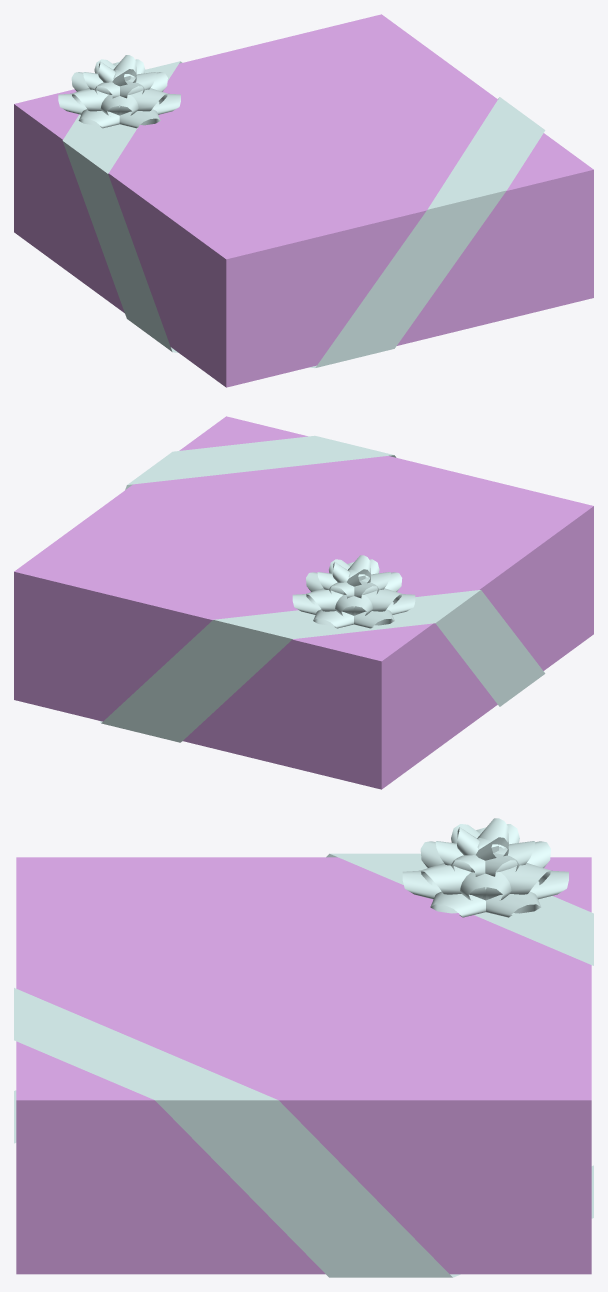
The model's file is PQ_Ch_GiftBox_B.fbx.
The picture shows the model from 3 angles, top to bottom: view 1: azimuth 30°, elevation 25°; view 2: azimuth 150°, elevation 25°; view 3: azimuth 270°, elevation 25°; orthographic projection. The views are drawn at different scales.
Visible parts, largest first — view 1: GiftBox_B; view 2: GiftBox_B; view 3: GiftBox_B.
Part boxes in pixels (<box>): GiftBox_B: <box>14,14,593,387</box>; GiftBox_B: <box>14,416,593,789</box>; GiftBox_B: <box>14,818,593,1277</box>.
Bounding box in the file's own units: 30.42 × 14.34 × 30.24.
